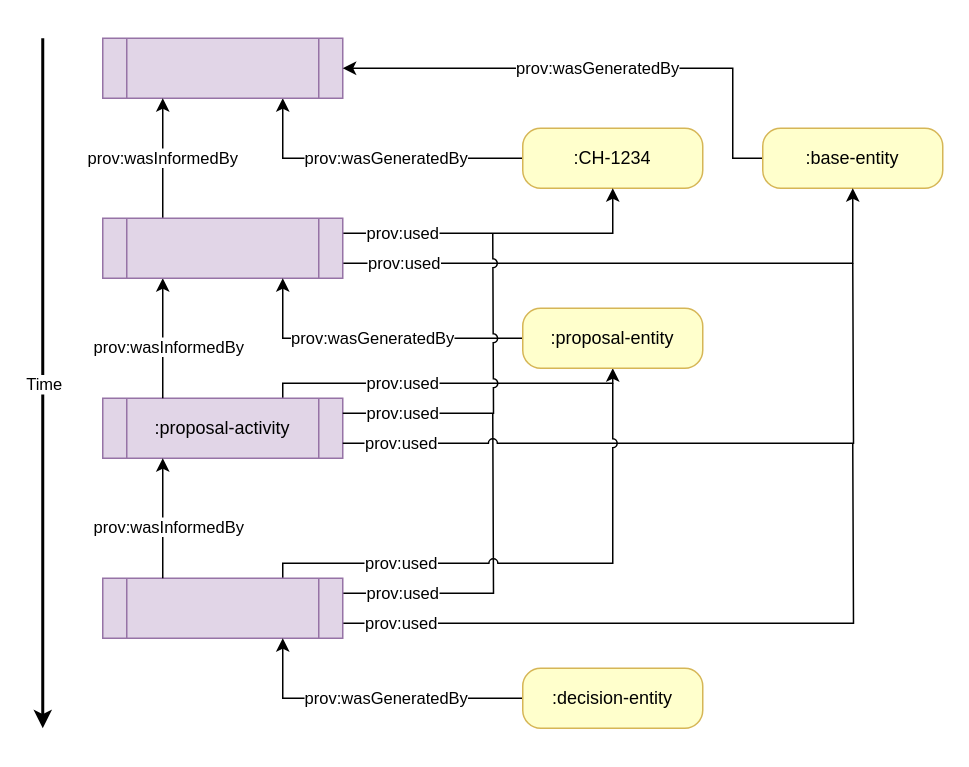
Some shapes in this 969 by 767 pixel diagram are drawn without their labels. The centre of each missing label's shape, as x and y in pixels:
:decision-activity: the point at 222,607
:proposal-creation-activity: the point at 222,247
:registration-activity: the point at 222,67
